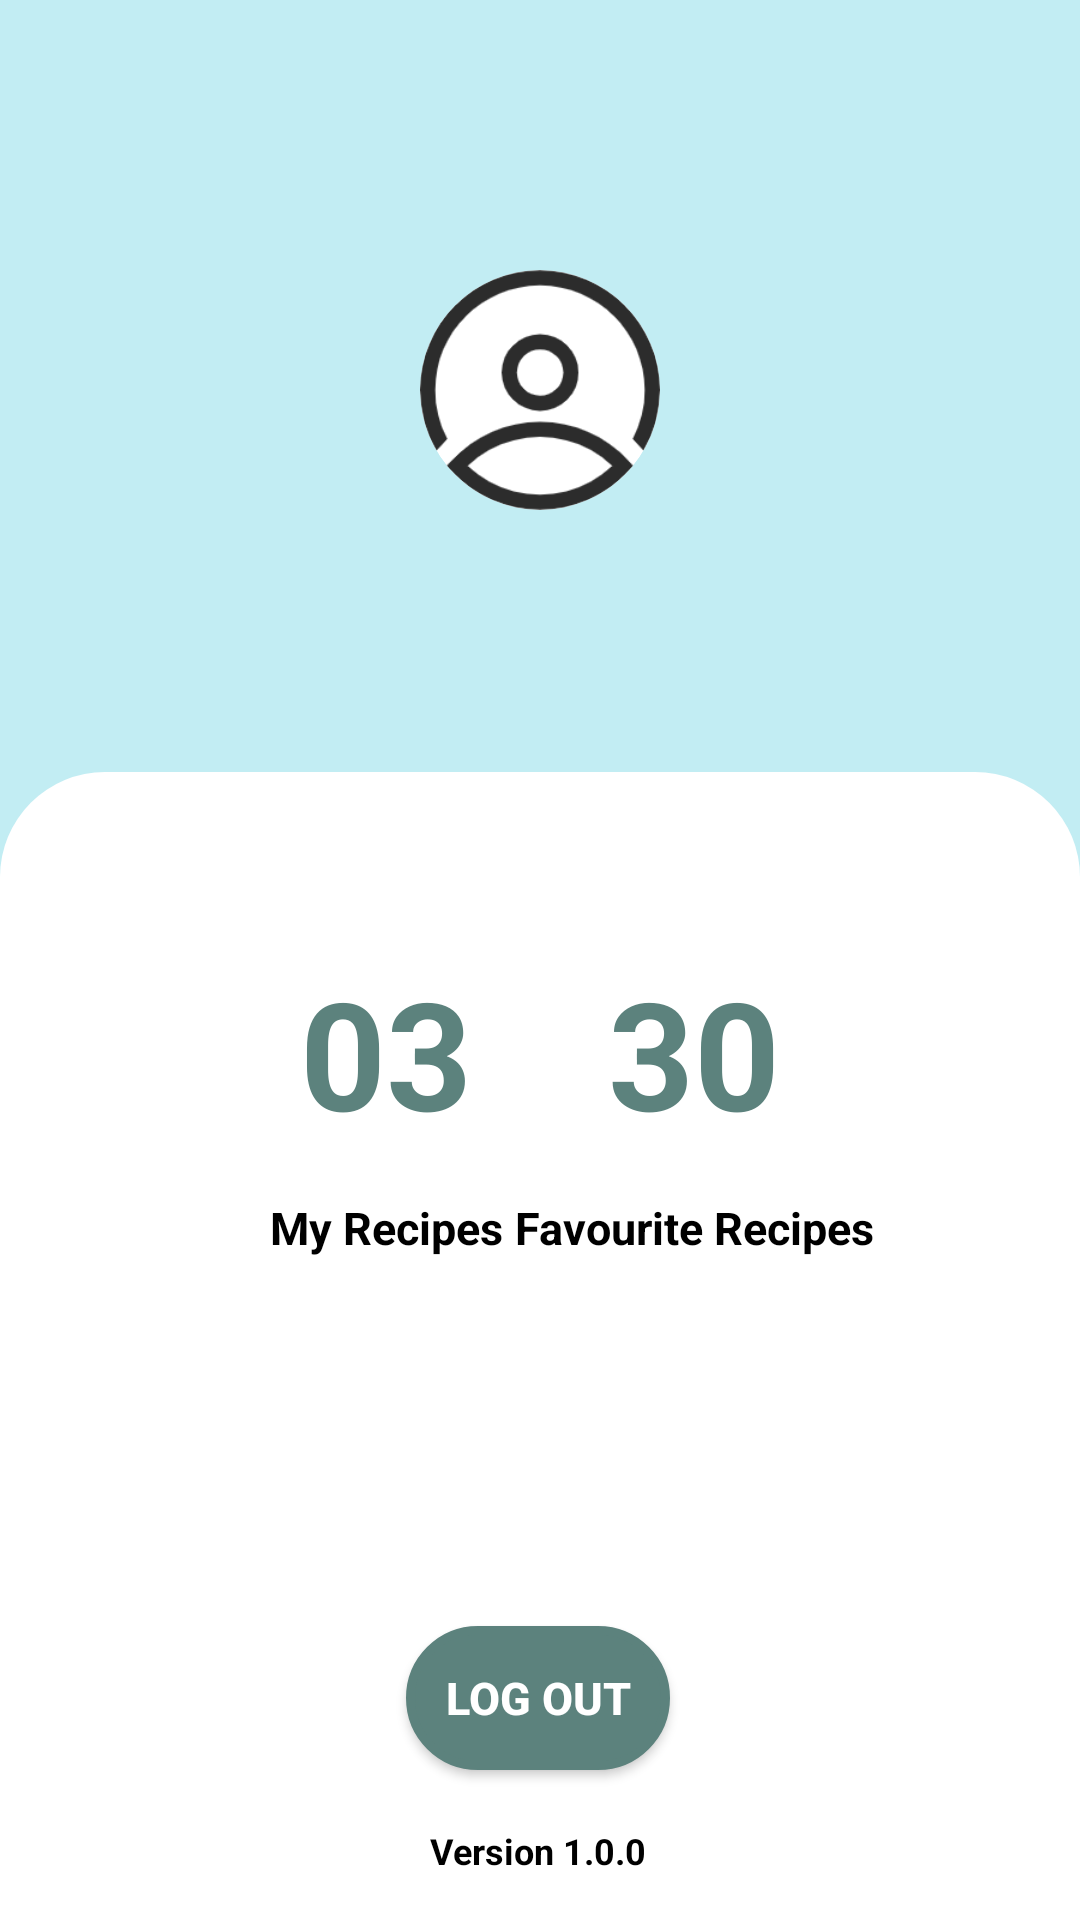

Icons on this 1080w x 1920h Android screen, each with the point to tap as point (x, y):
user: point (540, 390)
